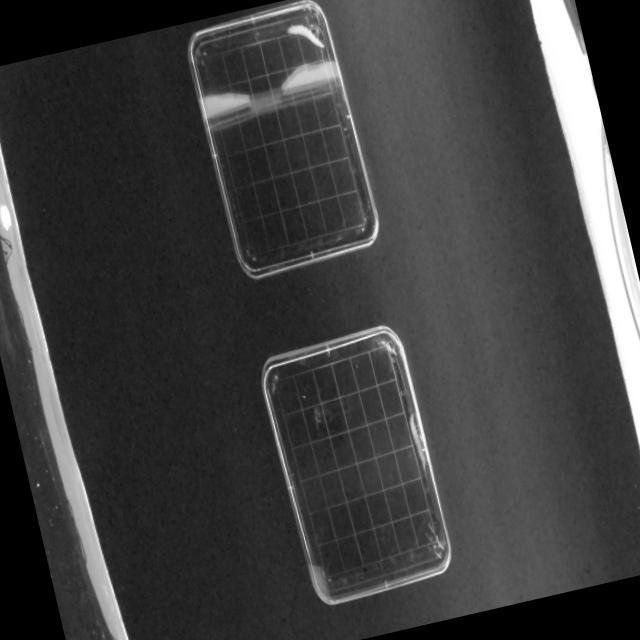larva: (404, 412, 430, 476), (285, 17, 325, 55)
